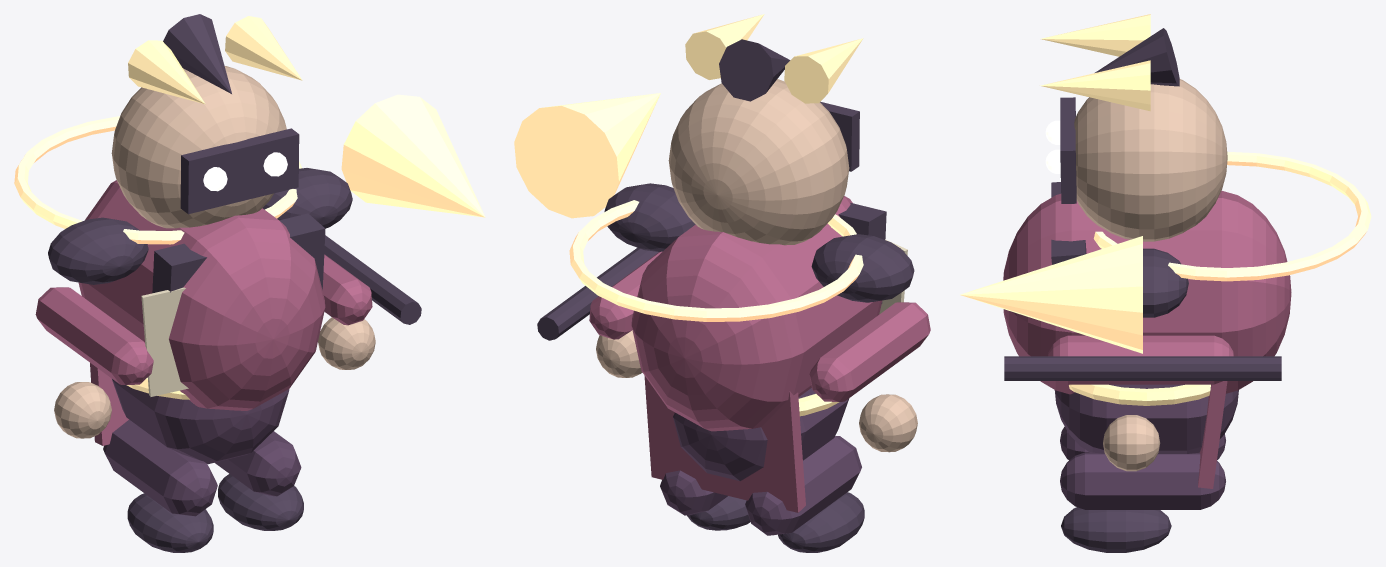
File: guardian-ember-nextgen.glb
3 views of the same model, side by side, from view 1: azimuth 30°, elevation 25°; view 2: azimuth 150°, elevation 25°; view 3: azimuth 270°, elevation 25° (orthographic). The views are drawn at different scales.
Visible parts, largest first — view 1: body, head, signature, pelvis, mask, armL, legL, shoulderL, halo, footL, chestArmor, talisman (+11 smaller); view 2: body, head, signature, cloth, armL, halo, pelvis, legL, shoulderL, shoulderR, hairCrest, footL (+11 smaller); view 3: body, head, signature, legR, weapon, pelvis, halo, footR, armR, hornR, handR, shoulderR (+7 smaller).
Part boxes in pixels (x1,y1,x2,y2): body: (78, 180, 325, 410); head: (111, 66, 286, 228); signature: (341, 94, 485, 217); pelvis: (112, 379, 289, 464); mask: (180, 128, 299, 214); armL: (35, 287, 153, 384); legL: (103, 419, 217, 516); shoulderL: (48, 217, 148, 284); halo: (14, 116, 301, 244); footL: (127, 493, 213, 552); chestArmor: (152, 213, 325, 293); talisman: (141, 287, 188, 396); body: (631, 196, 882, 431); head: (668, 79, 849, 245); signature: (514, 93, 660, 218); cloth: (644, 375, 805, 512); armL: (809, 302, 930, 401); halo: (569, 200, 863, 321); pelvis: (673, 388, 849, 481); legL: (745, 436, 861, 535); shoulderL: (811, 234, 914, 302); shoulderR: (604, 183, 695, 251); hairCrest: (719, 39, 790, 101); footL: (778, 492, 864, 552); body: (1003, 190, 1291, 394); head: (1074, 79, 1227, 241); signature: (960, 236, 1142, 353); legR: (1060, 452, 1225, 509); weapon: (1004, 356, 1281, 380); pelvis: (1054, 384, 1238, 453); halo: (1093, 151, 1371, 281); footR: (1061, 507, 1171, 552); armR: (1048, 335, 1233, 384); hornR: (1040, 60, 1150, 111); handR: (1103, 415, 1160, 471); shoulderR: (1143, 248, 1188, 317).
Bounding box in the file's own units: 2.33 × 2.85 × 2.15.
